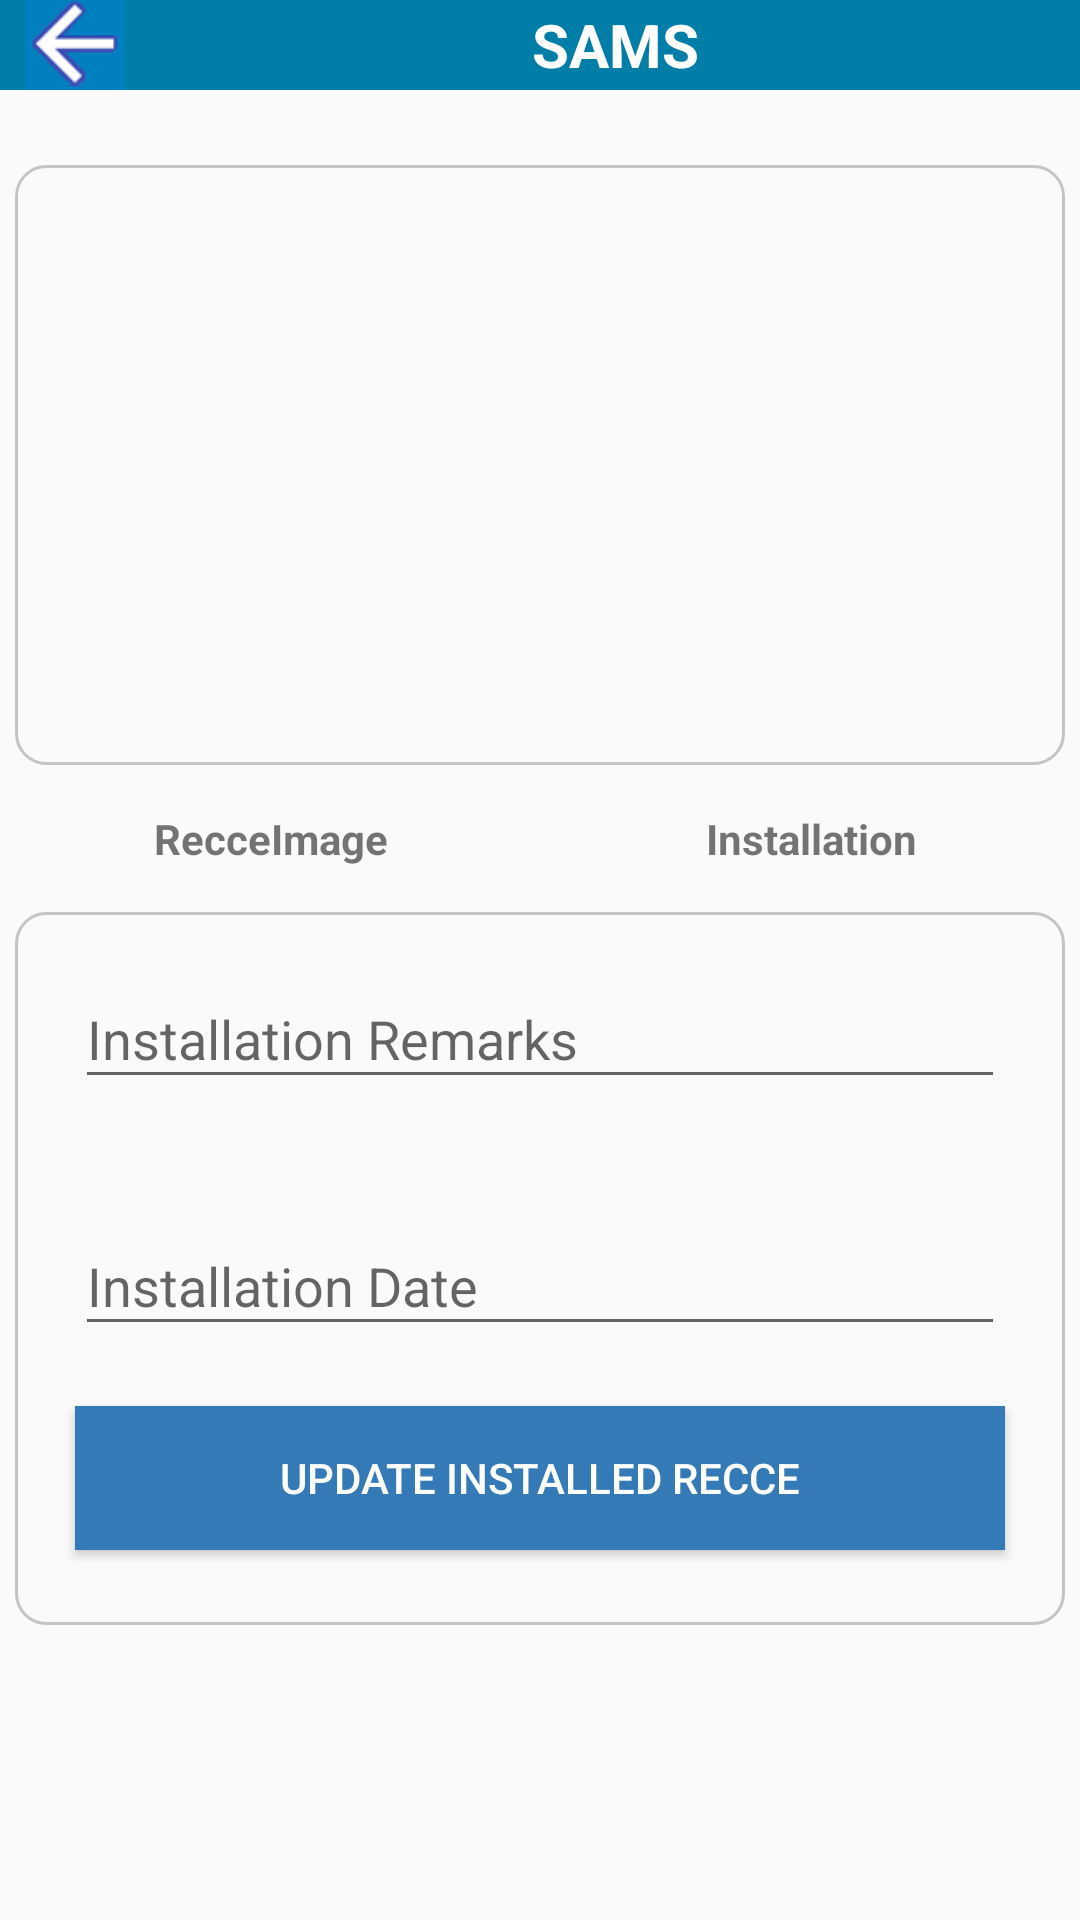

Named icons in this screenshot (1080w x 1920h) and their bounding boxes, [x1=x1, y1=y1, x2=x2, y2=y2]:
buttonback: [x1=25, y1=0, x2=125, y2=90]
